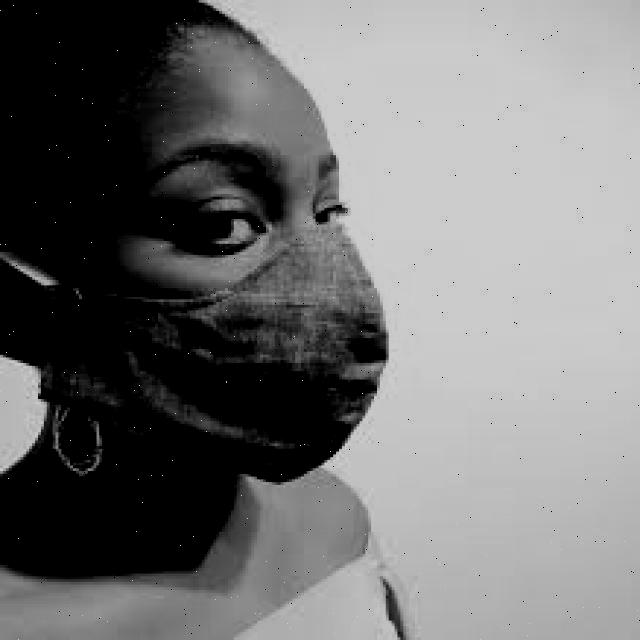fake: (0, 223, 438, 518)
real: (95, 34, 364, 486)
